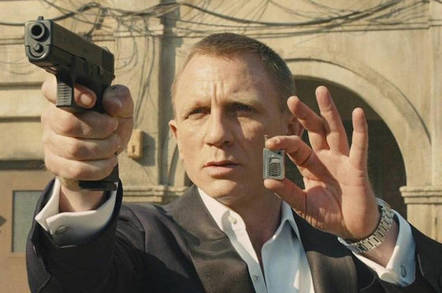pistol: (23, 14, 123, 189)
